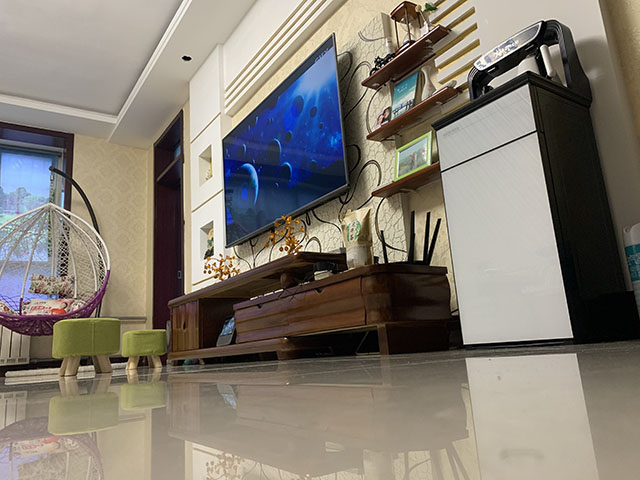cabinet: (430, 17, 640, 352), (165, 248, 456, 366)
stool: (50, 317, 122, 376), (119, 328, 168, 370)
